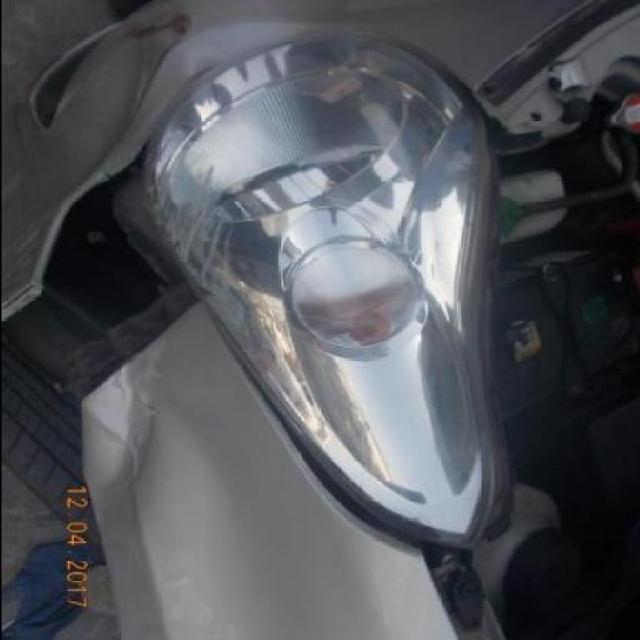damage: (3, 141, 196, 404), (142, 120, 229, 313), (81, 340, 167, 523), (124, 38, 184, 124), (105, 13, 190, 43)
